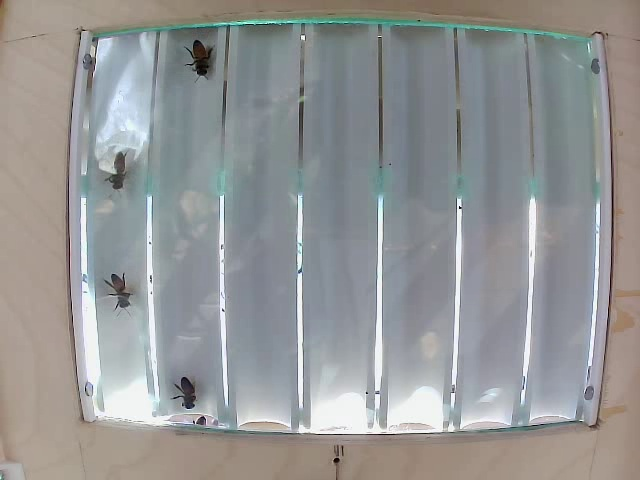bee: (179, 32, 222, 91), (104, 267, 134, 316), (103, 150, 130, 192), (174, 373, 201, 414)
